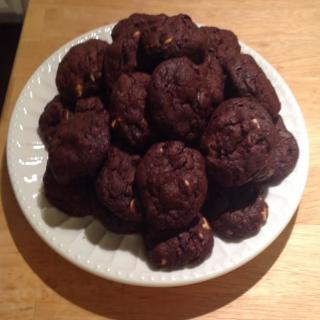Cookie: (38, 9, 302, 268)
